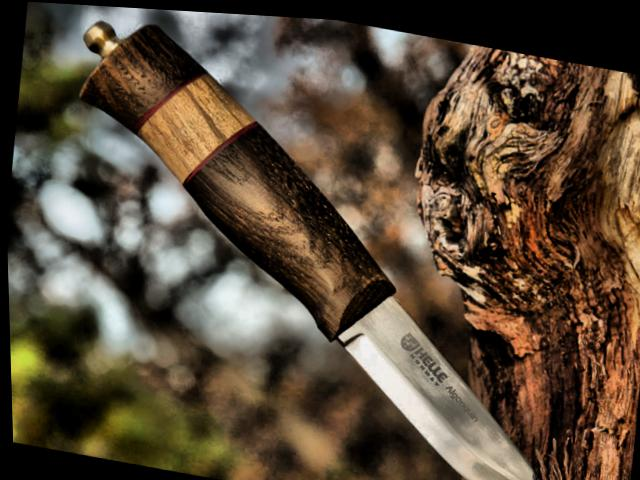knife: (281, 253, 579, 480)
